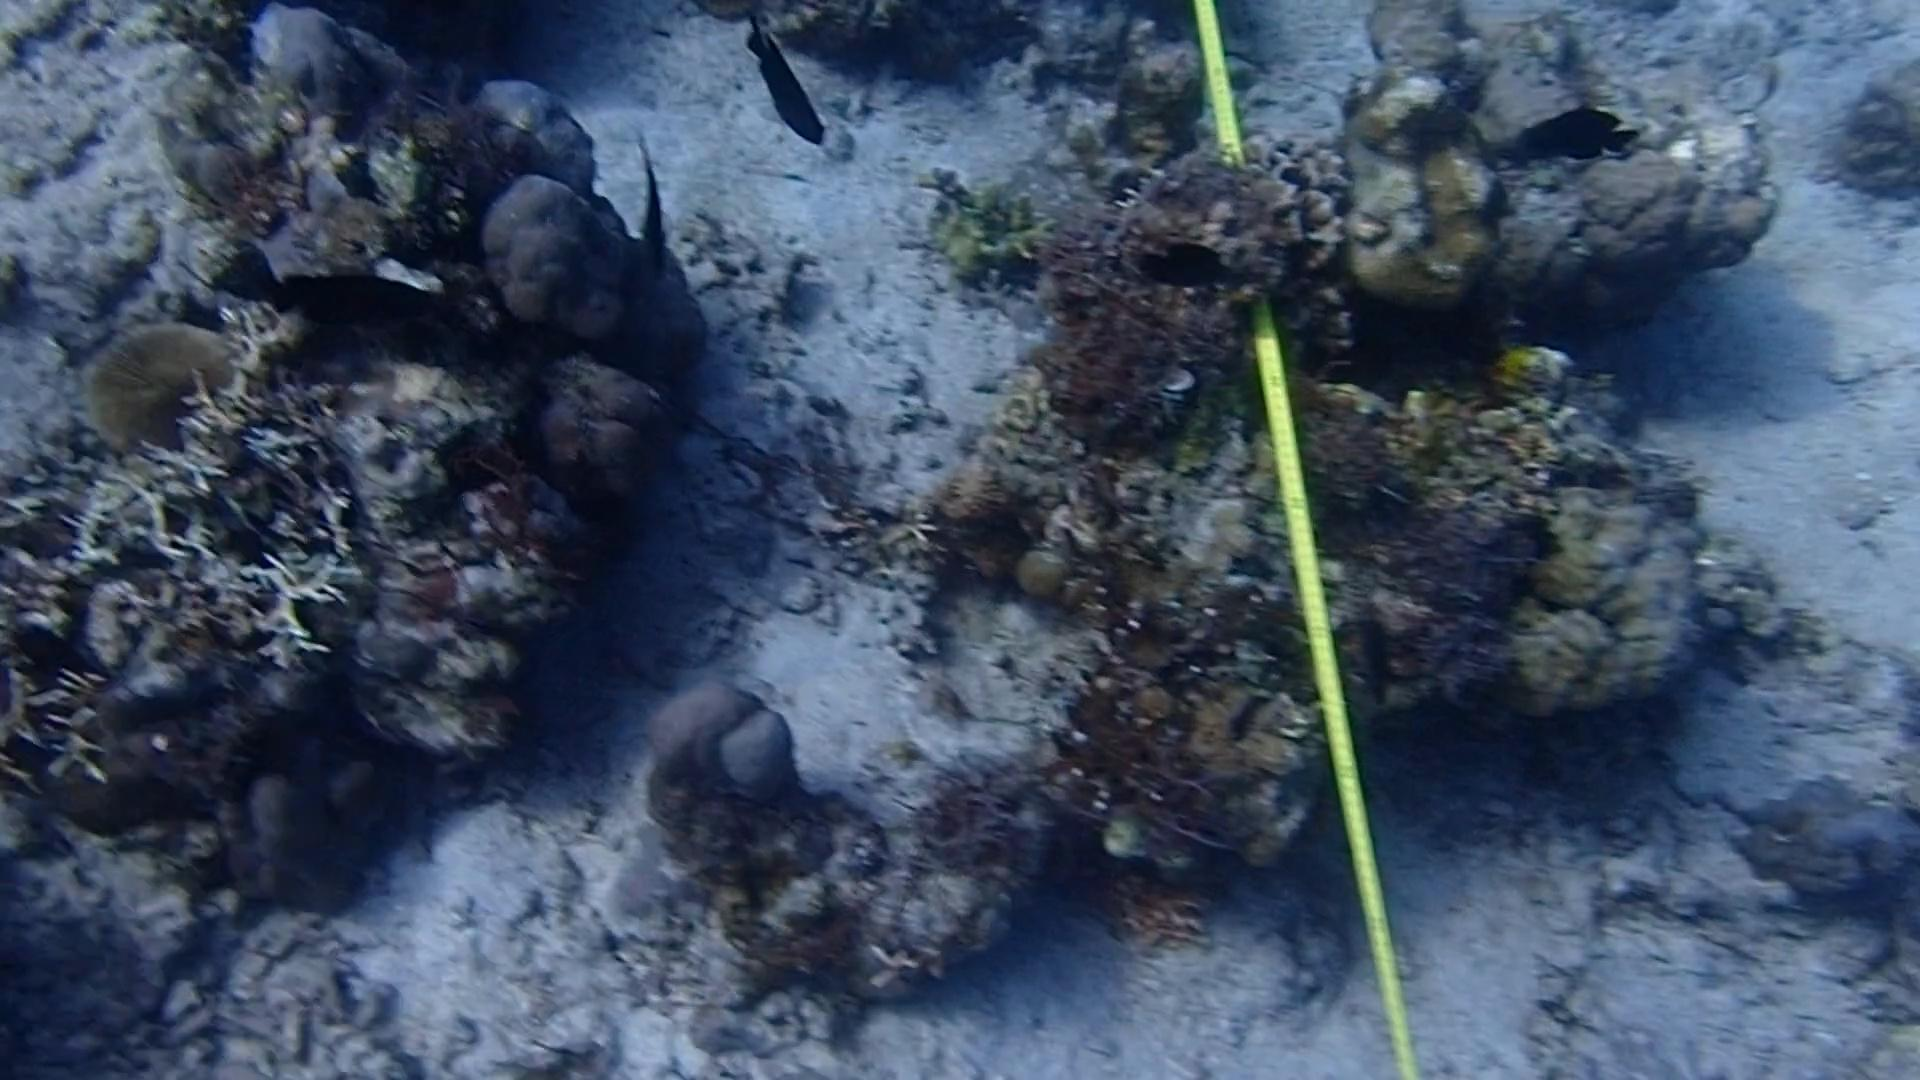Dark Fish: (265, 245, 429, 340), (736, 22, 828, 160), (621, 131, 687, 297), (1520, 95, 1642, 185), (1333, 611, 1412, 711), (1124, 223, 1220, 303)
